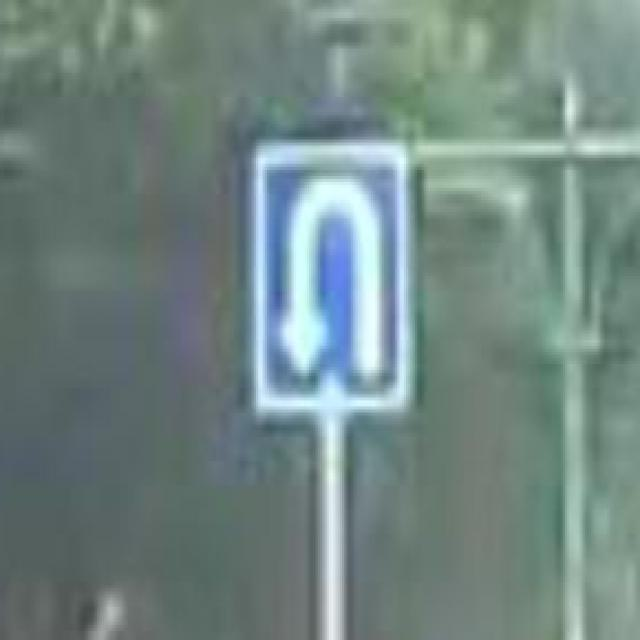U-turn: (251, 144, 409, 409)
